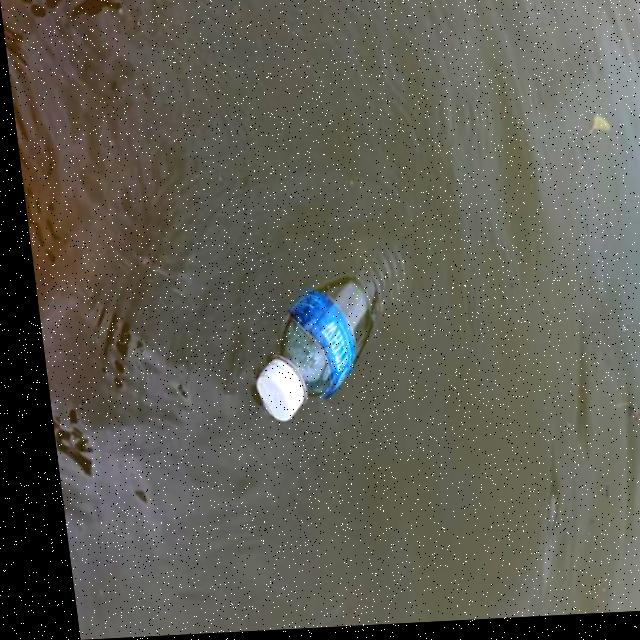waterbottle: (235, 237, 422, 424)
